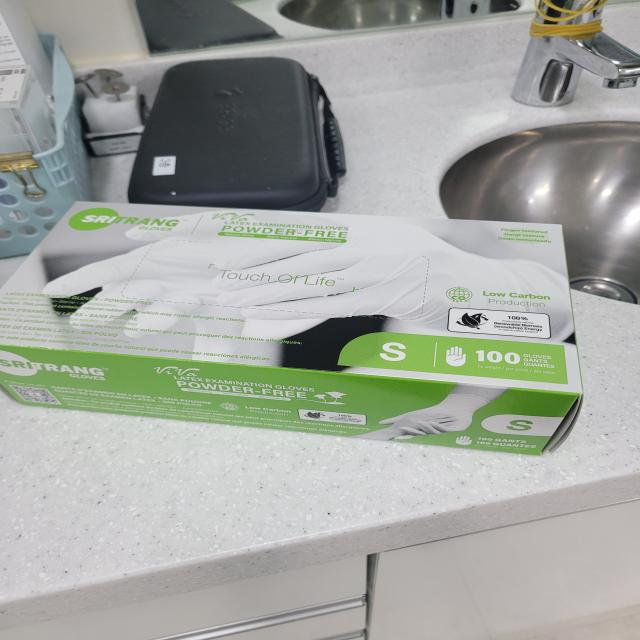glove: (0, 172, 614, 471)
